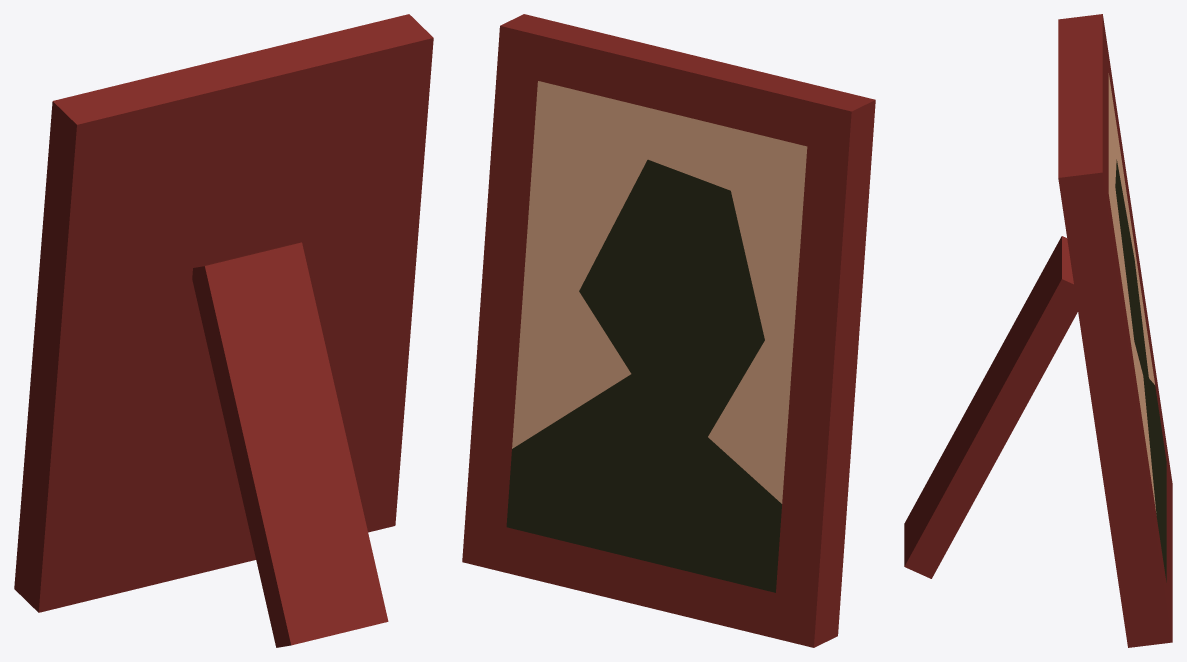
File: Picture Frame.fbx
3 views of the same model, side by side, from view 1: azimuth 30°, elevation 25°; view 2: azimuth 150°, elevation 25°; view 3: azimuth 270°, elevation 25° (orthographic). The views are drawn at different scales.
Parts seen in each view (by area): view 1: Picture Frame; view 2: Picture Frame; view 3: Picture Frame.
Part boxes in pixels (x1=…): Picture Frame: x1=14, y1=14, x2=433, y2=647; Picture Frame: x1=462, y1=14, x2=875, y2=647; Picture Frame: x1=904, y1=14, x2=1172, y2=647.
Bounding box in the file's own units: 23.22 × 32.47 × 16.6.
